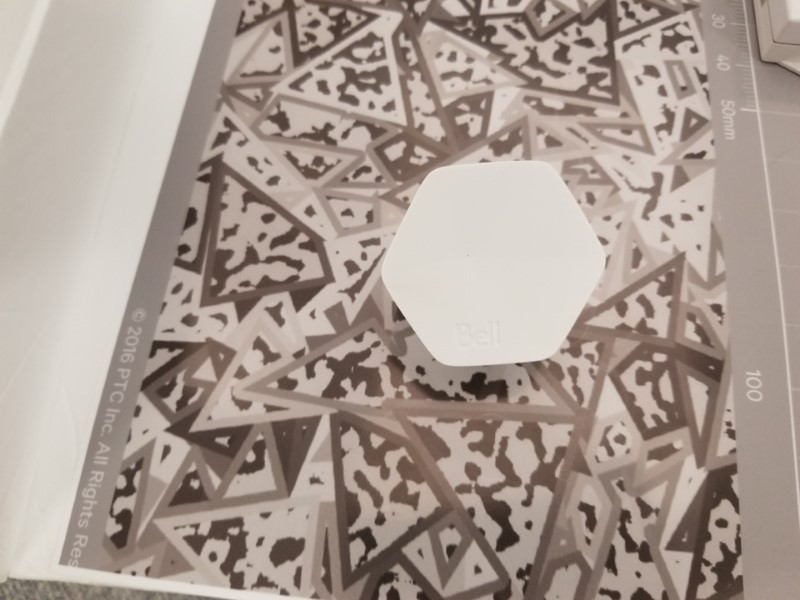pod: (375, 156, 616, 371)
